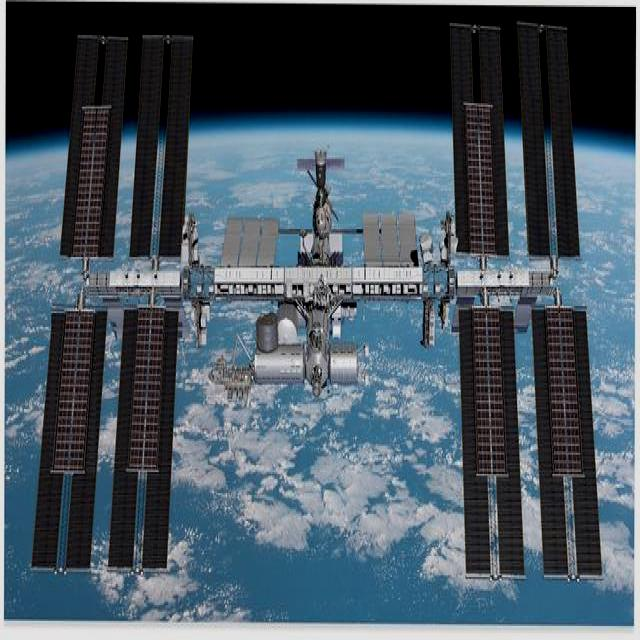medium_debris: (33, 23, 601, 579)
